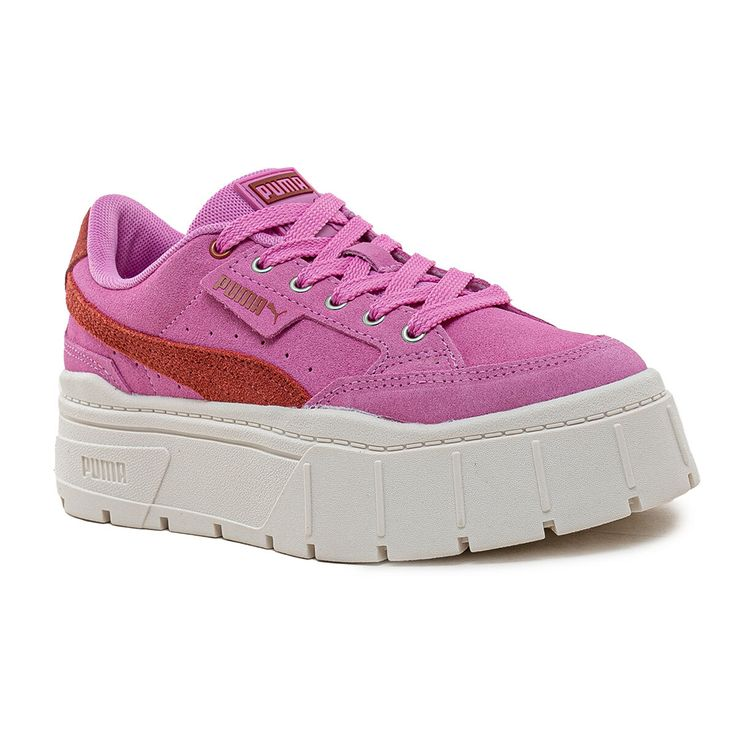gamuza: (65, 166, 648, 424)
